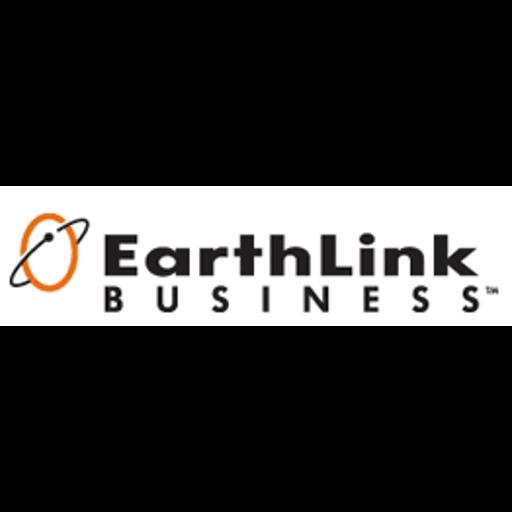EarthLink: (0, 186, 512, 326)
